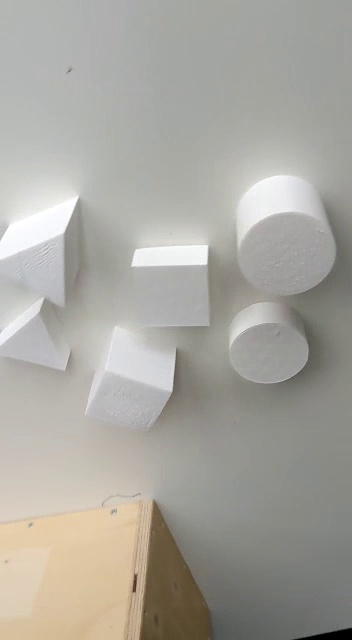Clyinder_short: (225, 300, 313, 386)
Cube: (82, 323, 182, 436)
Cube_short: (126, 242, 214, 334)
Cylinder: (232, 171, 339, 300)
Triangle: (1, 194, 87, 308)
Triangle_short: (1, 293, 77, 375)
